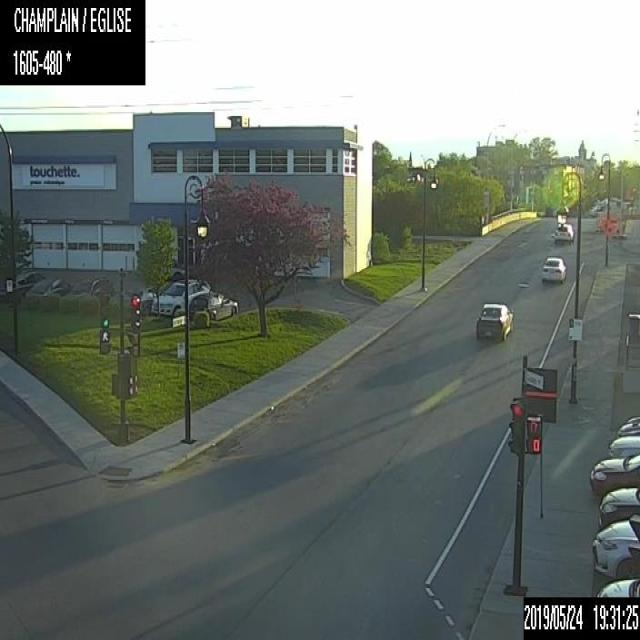construction: (602, 218, 612, 234), (596, 217, 600, 233)
vehicle: (591, 514, 639, 578), (151, 278, 210, 314), (590, 453, 639, 491), (597, 487, 639, 527), (474, 301, 512, 339), (189, 291, 238, 319), (25, 276, 72, 298), (68, 276, 114, 296), (3, 270, 44, 291), (597, 578, 639, 596), (127, 286, 155, 312), (608, 434, 639, 457), (540, 256, 565, 280), (617, 411, 639, 435), (552, 222, 572, 242), (168, 261, 185, 279)
